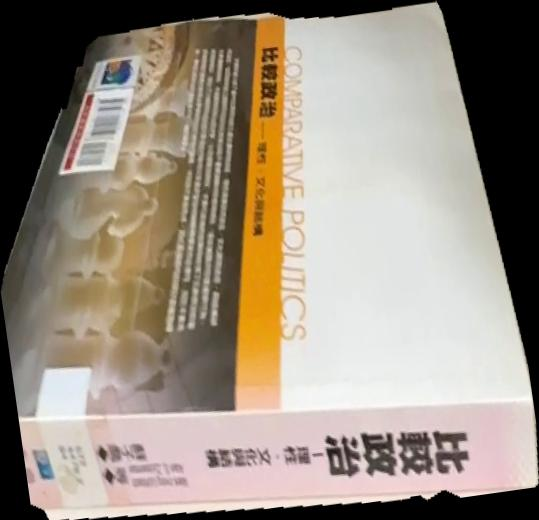flat: (1, 1, 539, 520)
